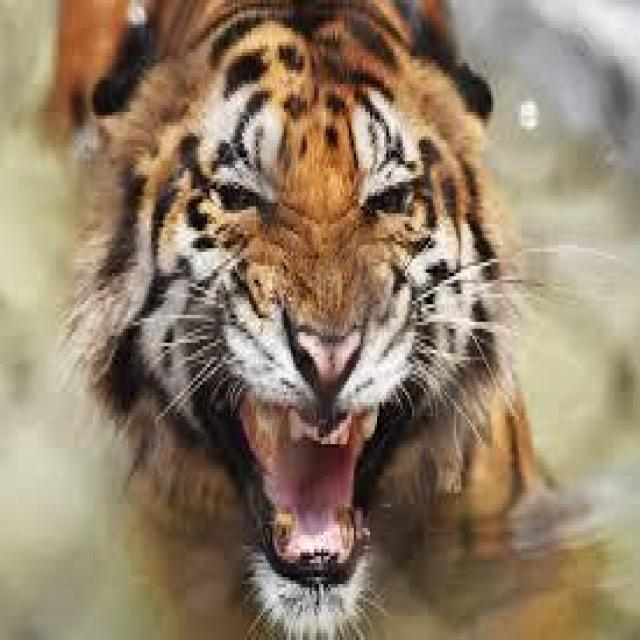Tiger: (51, 3, 566, 640)
